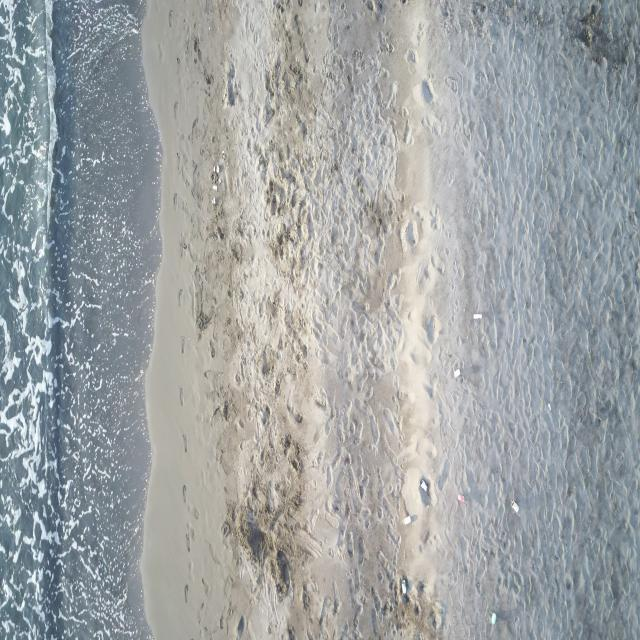tin-and-aluminum-cans: (419, 479, 428, 492), (511, 500, 519, 513), (401, 578, 407, 594), (491, 611, 497, 626), (404, 515, 412, 526), (472, 313, 482, 321), (454, 368, 461, 379), (458, 492, 465, 503)
